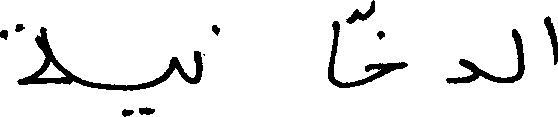X: (348, 0, 406, 92), (0, 19, 72, 89), (122, 52, 188, 116), (190, 20, 221, 88), (445, 54, 496, 88), (511, 24, 524, 87), (544, 11, 557, 69), (327, 16, 337, 91)
